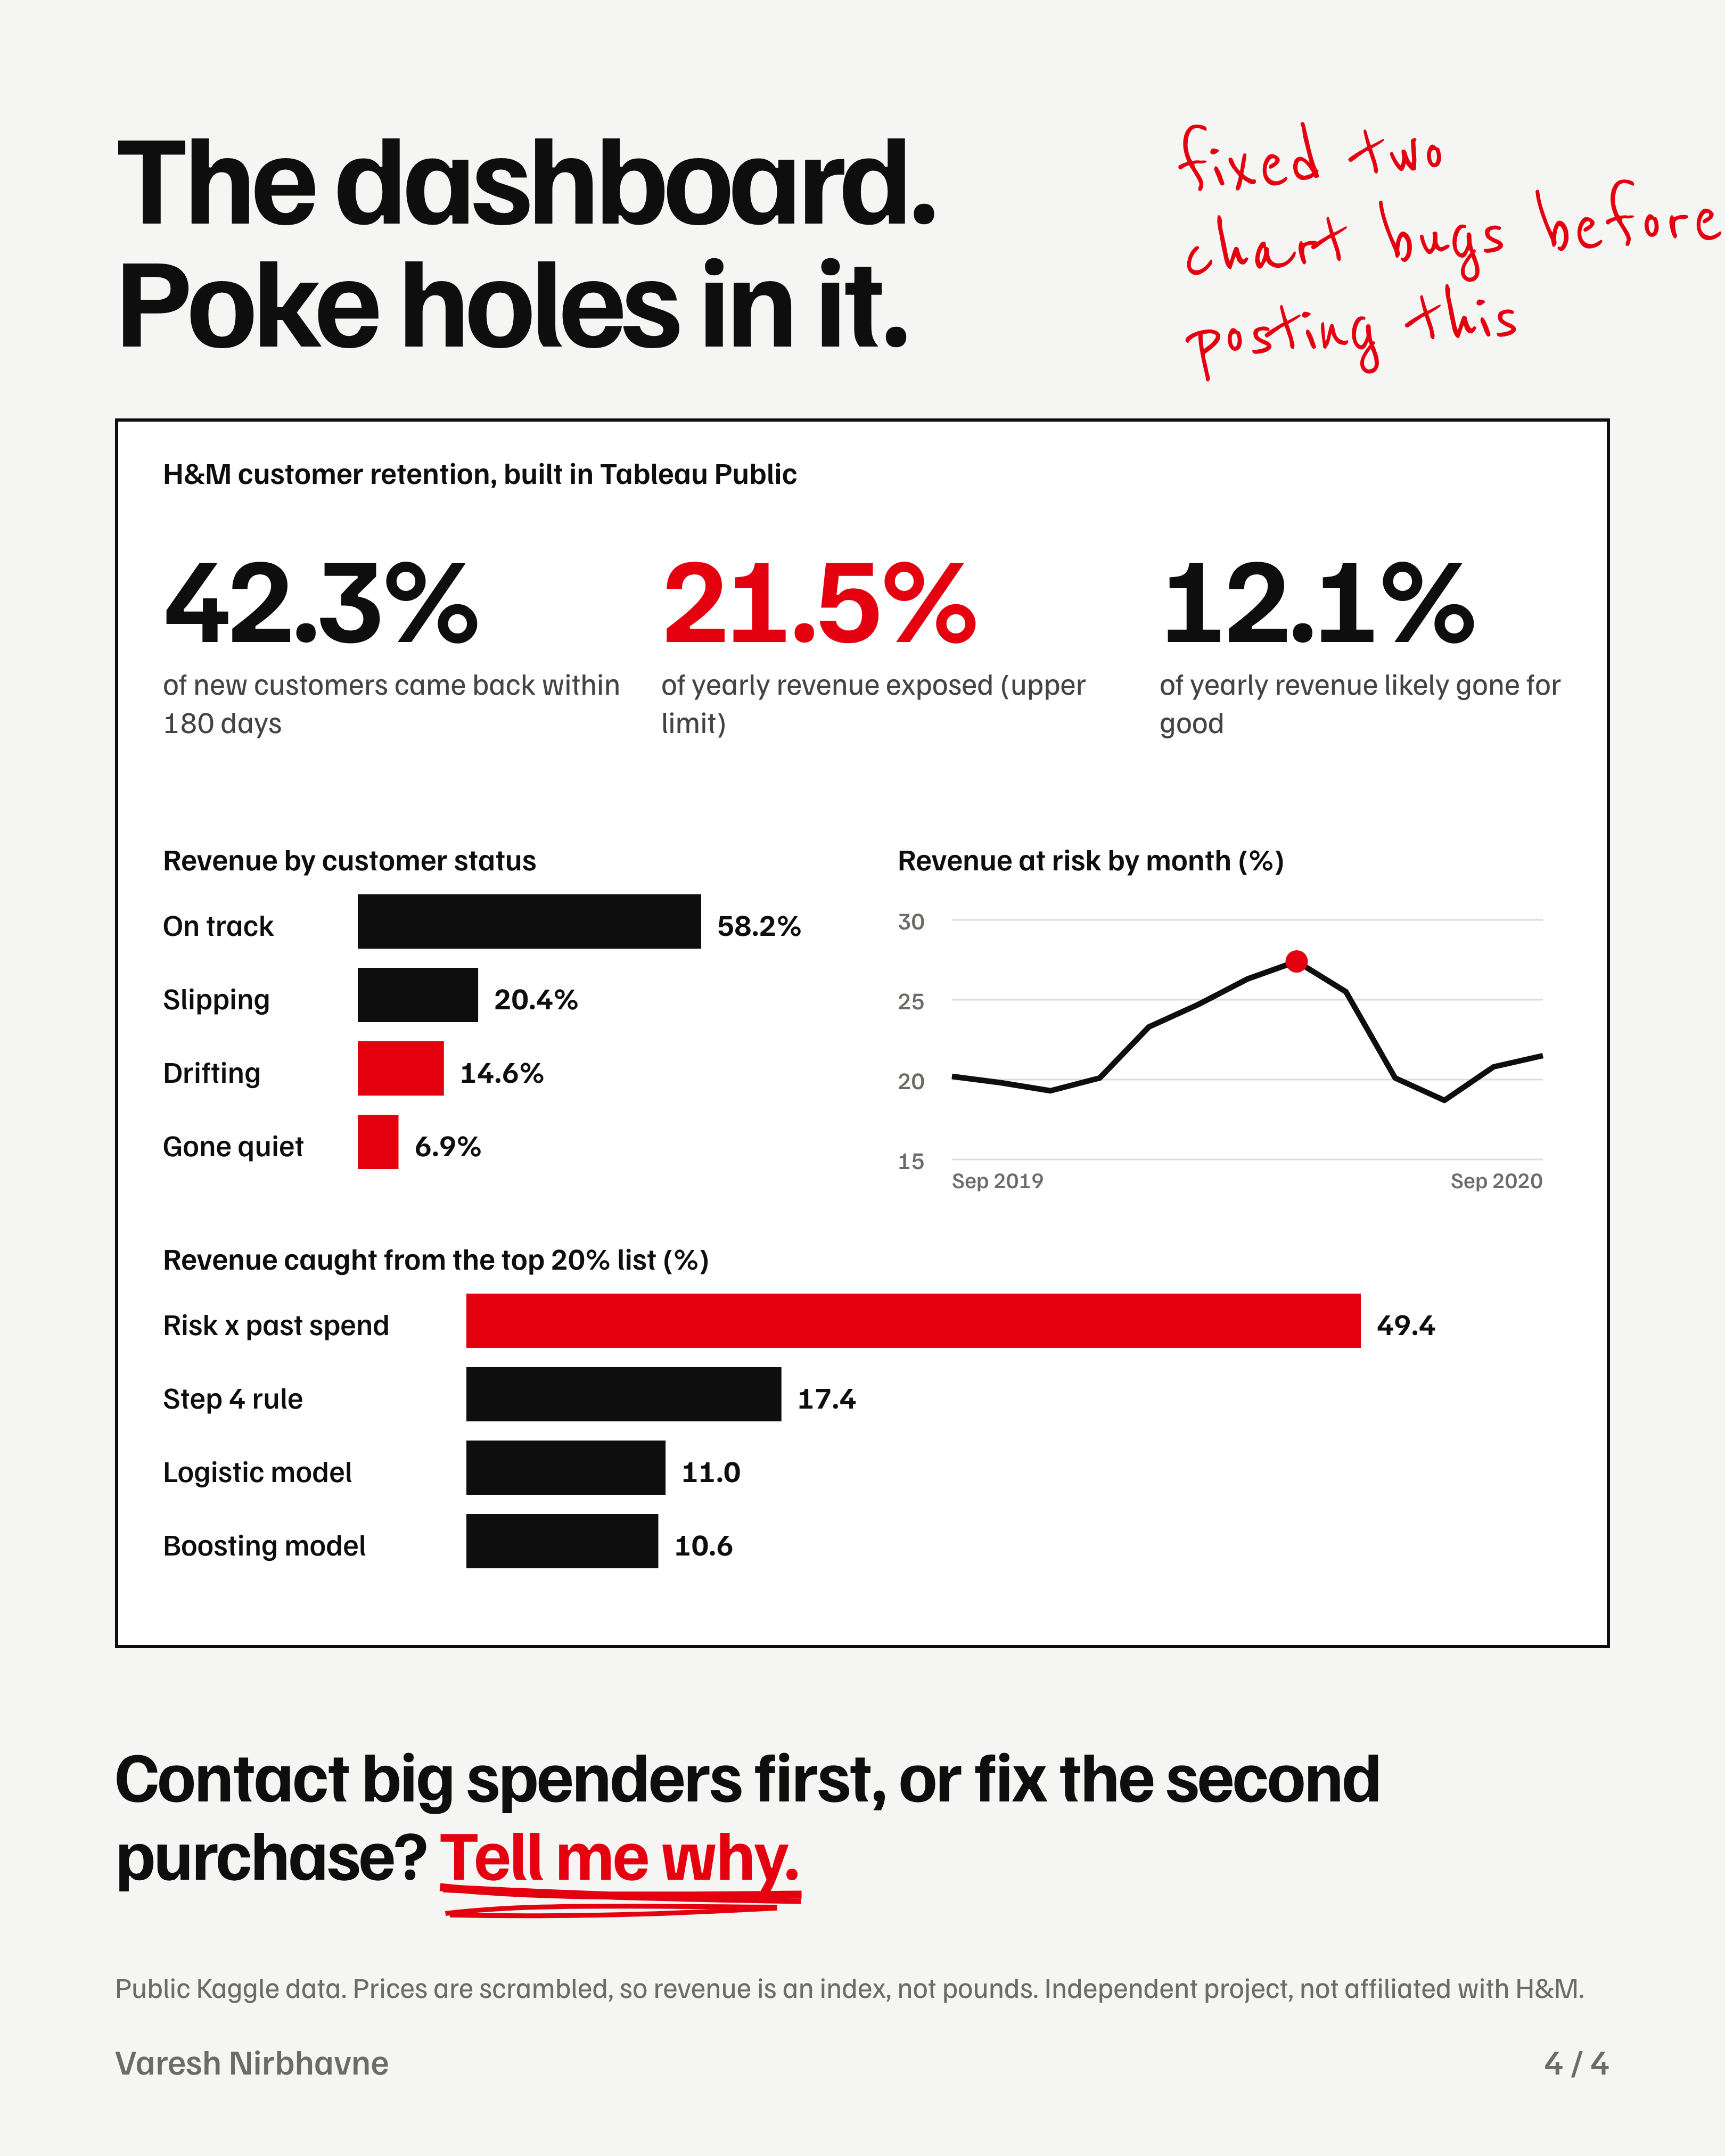

The dashboard page shown, as its layout file describes it:
{"tool":"tableau","page":{"name":"Dashboard 1","canvas":[1000,1000],"units":"permille","ordinal":0},"visuals":[{"type":"worksheet","title":"Headline","mark":"Automatic","rows":["Number"],"box":[5.6,9.6,988.7,137]},{"type":"worksheet","title":"Funnel","mark":"Automatic","rows":["Stage"],"cols":["Customers"],"box":[5.6,146.6,496.5,292.1]},{"type":"worksheet","title":"Segments","mark":"Automatic","rows":["Dimension","Segment"],"cols":["Came back in 180 days (pct)"],"box":[502.1,146.6,492.2,406.2]},{"type":"worksheet","title":"Status","mark":"Automatic","rows":["Status"],"cols":["Pct of revenue"],"box":[5.6,438.7,496.5,292.1]},{"type":"worksheet","title":"Trend","mark":"Automatic","rows":["Revenue at risk (pct)"],"cols":["Month end"],"box":[502.1,552.9,492.2,437.5]},{"type":"worksheet","title":"Methods","mark":"Automatic","rows":["Method"],"cols":["Churner revenue caught in top 20 pct"],"box":[5.6,730.8,496.5,259.6]}]}

Visuals, with their boxes on the dashboard's canvas, which has no fixed pixel size, in thousandths of its width and height (x1, y1, x2, y2). These are canvas units, not pixel positions in the 1725x2156 screenshot, which may show the page scaled, cropped or inside an application window:
"Headline" worksheet: {"left": 6, "top": 10, "right": 994, "bottom": 147}
"Funnel" worksheet: {"left": 6, "top": 147, "right": 502, "bottom": 439}
"Segments" worksheet: {"left": 502, "top": 147, "right": 994, "bottom": 553}
"Status" worksheet: {"left": 6, "top": 439, "right": 502, "bottom": 731}
"Trend" worksheet: {"left": 502, "top": 553, "right": 994, "bottom": 990}
"Methods" worksheet: {"left": 6, "top": 731, "right": 502, "bottom": 990}
